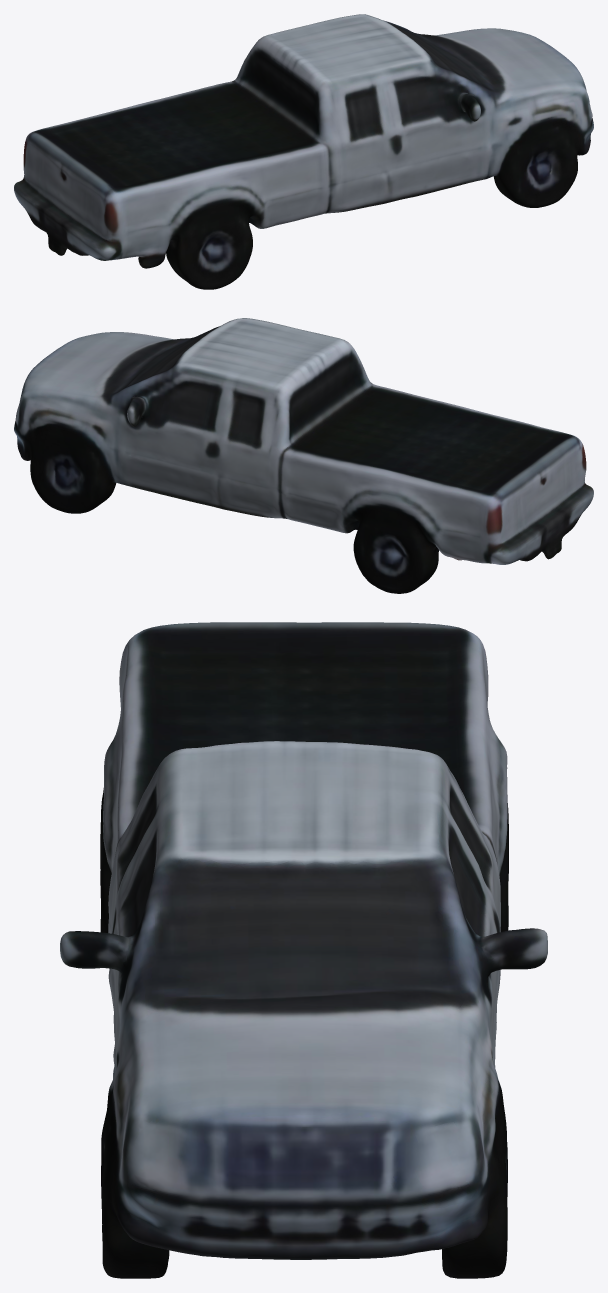
File: a1a9370e018d_ford_truck__3d_asset_0_glb.glb
The picture shows the model from 3 angles, top to bottom: view 1: azimuth 30°, elevation 25°; view 2: azimuth 150°, elevation 25°; view 3: azimuth 270°, elevation 25°; orthographic projection. The views are drawn at different scales.
Parts seen in each view (by area): view 1: world; view 2: world; view 3: world.
Part boxes in pixels (left/top/right/bottom): world: left=14, top=14, right=593, bottom=289; world: left=14, top=318, right=593, bottom=593; world: left=60, top=622, right=547, bottom=1278.
Bounding box in the file's own units: 0.5815 × 0.18 × 0.238.
1 material, 1 textured.
